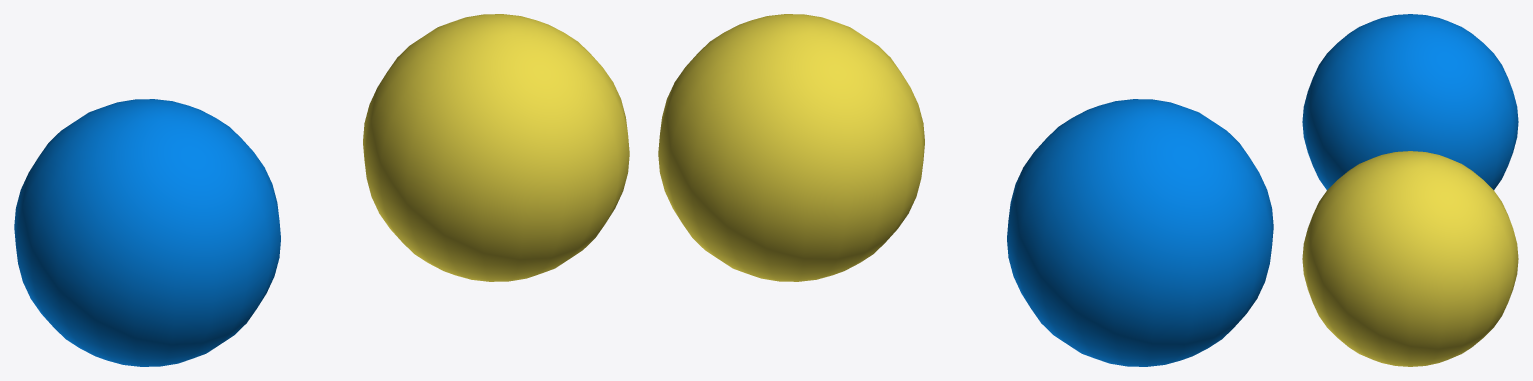
Rendered from materialTestBall.fbx.
3 renders of one model, left to right at view 1: azimuth 30°, elevation 25°; view 2: azimuth 150°, elevation 25°; view 3: azimuth 270°, elevation 25°, orthographic. The views are drawn at different scales.
Visible parts, largest first — view 1: pSphere1, pSphere2; view 2: pSphere1, pSphere2; view 3: pSphere1, pSphere2.
Part boxes in pixels (x1,y1,x2,y2): pSphere1: (363,14,629,281); pSphere2: (14,99,280,366); pSphere1: (658,14,924,281); pSphere2: (1007,99,1273,366); pSphere1: (1302,151,1518,366); pSphere2: (1302,14,1518,189).
Bounding box in the file's own units: 0.05 × 0.02 × 0.02.
